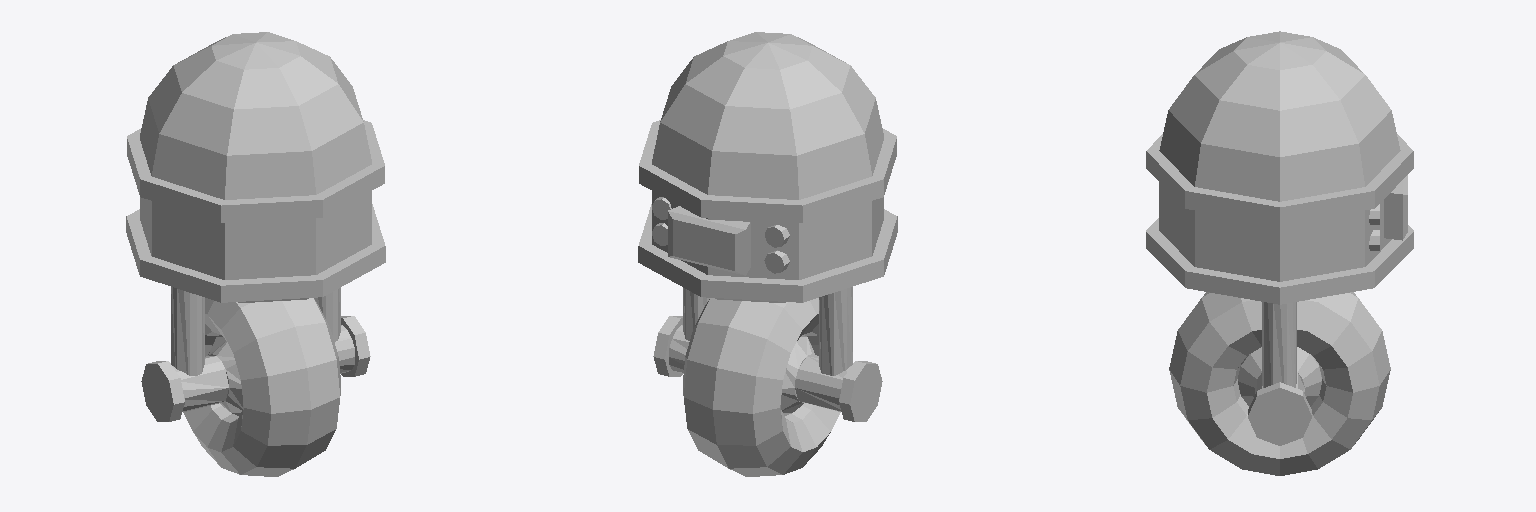
The model's file is Robot2.obj.
3 views of the same model, side by side, from view 1: azimuth 30°, elevation 25°; view 2: azimuth 150°, elevation 25°; view 3: azimuth 270°, elevation 25° (orthographic).
Visible parts, largest first — view 1: Cube_Cube.001, Torus, Cylinder.002_Cylinder.003, Cylinder.000_Cylinder.004, Cylinder.001_Cylinder.009; view 2: Cube_Cube.001, Torus, Cylinder.002_Cylinder.003, Cylinder.000_Cylinder.004, Cylinder.001_Cylinder.009; view 3: Cube_Cube.001, Torus, Cylinder.002_Cylinder.003, Cylinder.001_Cylinder.009.
Boxes of the visible parts, x1=… form: Cube_Cube.001: x1=126, y1=32, x2=385, y2=302; Torus: x1=183, y1=298, x2=340, y2=476; Cylinder.002_Cylinder.003: x1=141, y1=316, x2=370, y2=421; Cylinder.000_Cylinder.004: x1=171, y1=287, x2=204, y2=375; Cylinder.001_Cylinder.009: x1=314, y1=288, x2=340, y2=341; Cube_Cube.001: x1=638, y1=32, x2=897, y2=302; Torus: x1=683, y1=298, x2=840, y2=476; Cylinder.002_Cylinder.003: x1=653, y1=316, x2=882, y2=421; Cylinder.000_Cylinder.004: x1=819, y1=287, x2=852, y2=375; Cylinder.001_Cylinder.009: x1=683, y1=288, x2=709, y2=340; Cube_Cube.001: x1=1146, y1=31, x2=1413, y2=304; Torus: x1=1169, y1=292, x2=1390, y2=475; Cylinder.002_Cylinder.003: x1=1238, y1=347, x2=1321, y2=445; Cylinder.001_Cylinder.009: x1=1262, y1=302, x2=1296, y2=387.
Bounding box in the file's own units: 1.39 × 2.44 × 1.39.